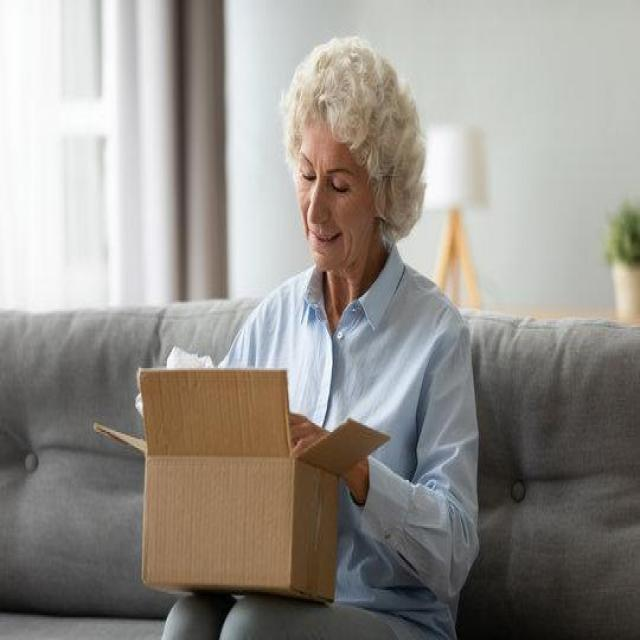box: (102, 371, 361, 609)
